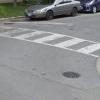Crosswalk: (8, 21, 100, 63)
